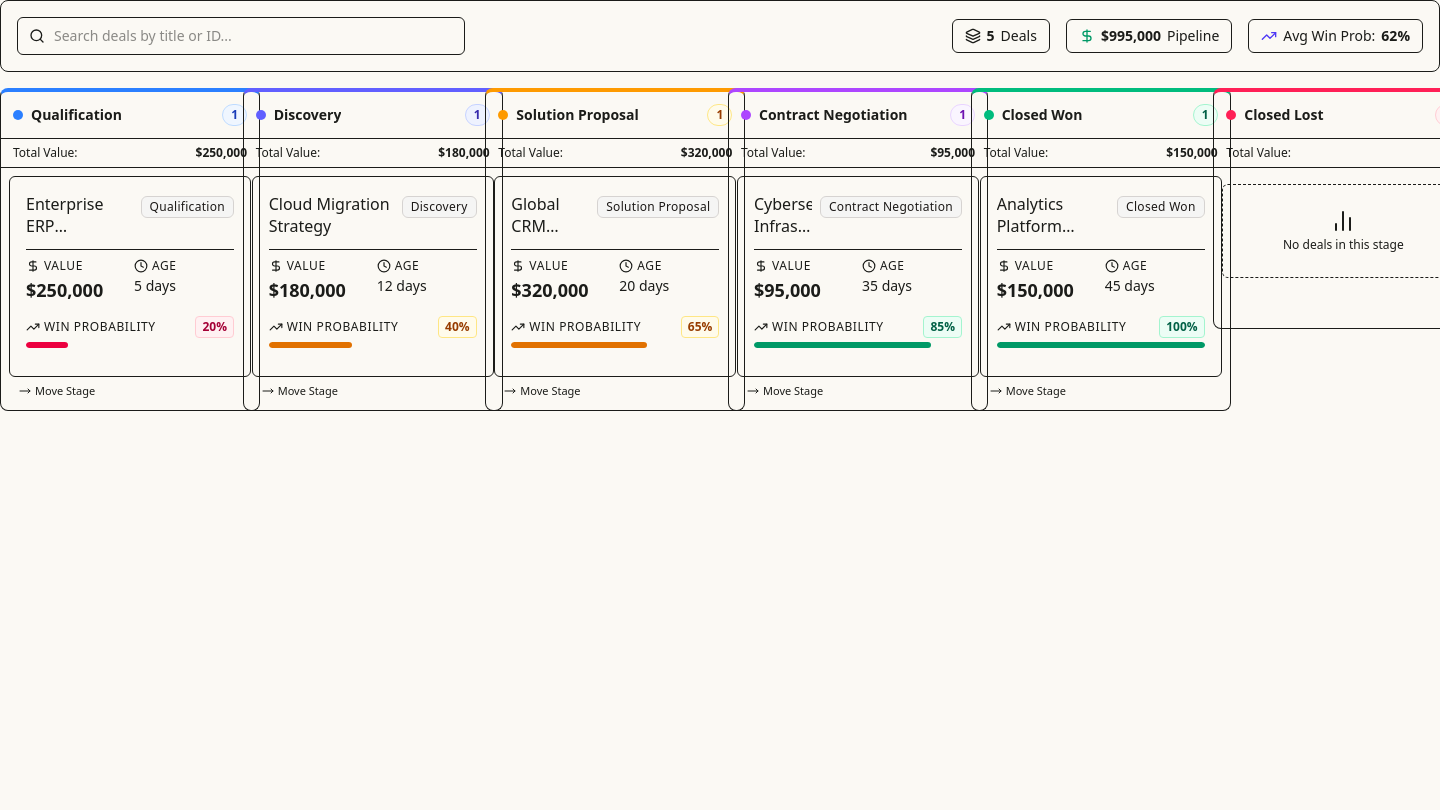
Test: Board Component [FR-001, FR-003, NFR-001] › Stage Transitions & Interaction [FR-003, NFR-001] › updates deal stage via Move Stage dropdown selector [FR-003]
The width and height of the screenshot is (1440, 810).
// Open Move Stage menu for deal-001 (currently Qualification)
Click the button with test id "move-stage-btn-deal-001" at x=57, y=391, box [13,381,101,402]
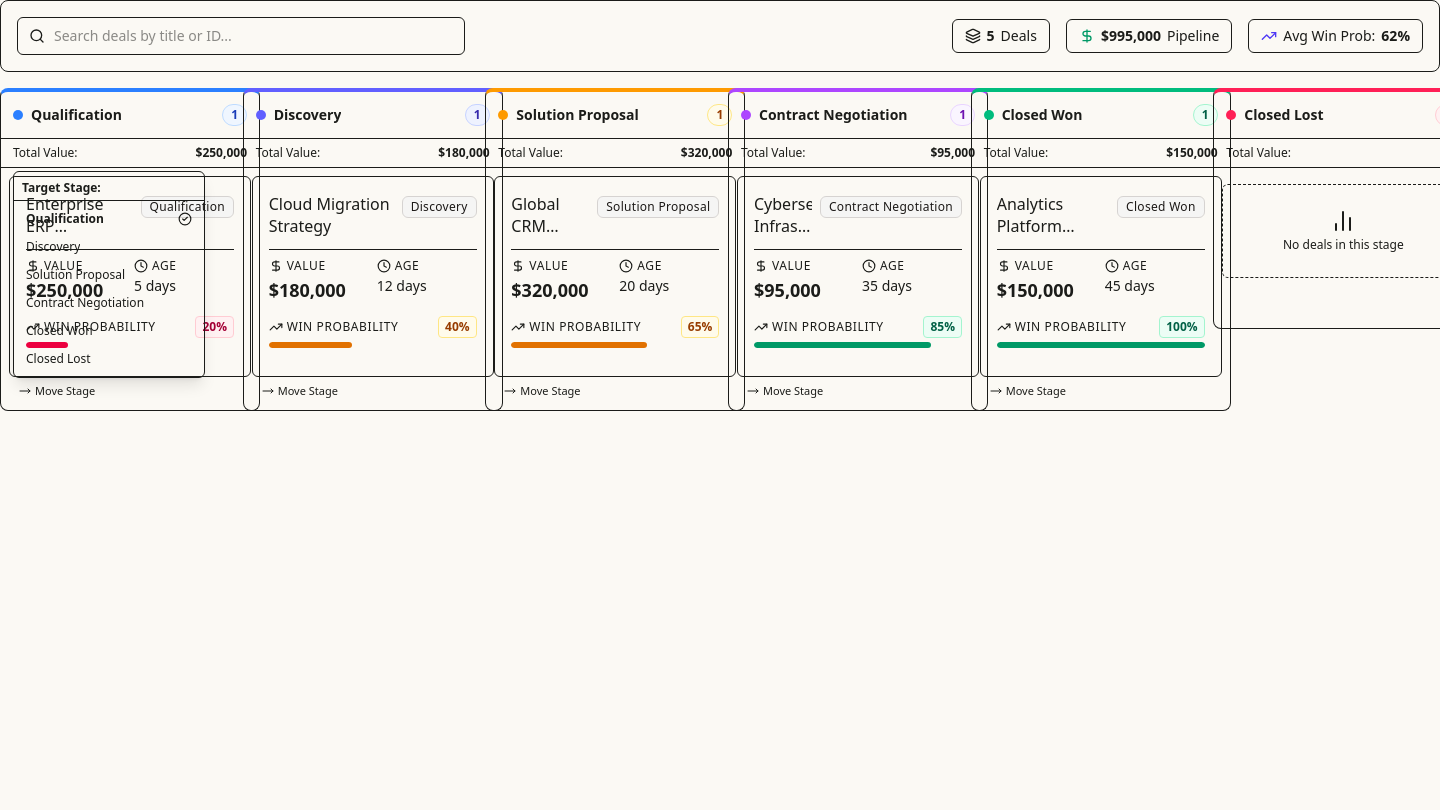
Now the element with test id "move-stage-menu-deal-001" is shown, box [13,170,205,378]
// Select 'Discovery' option
Click the button with test id "move-option-deal-001-Discovery" at x=109, y=246, box [14,232,204,260]
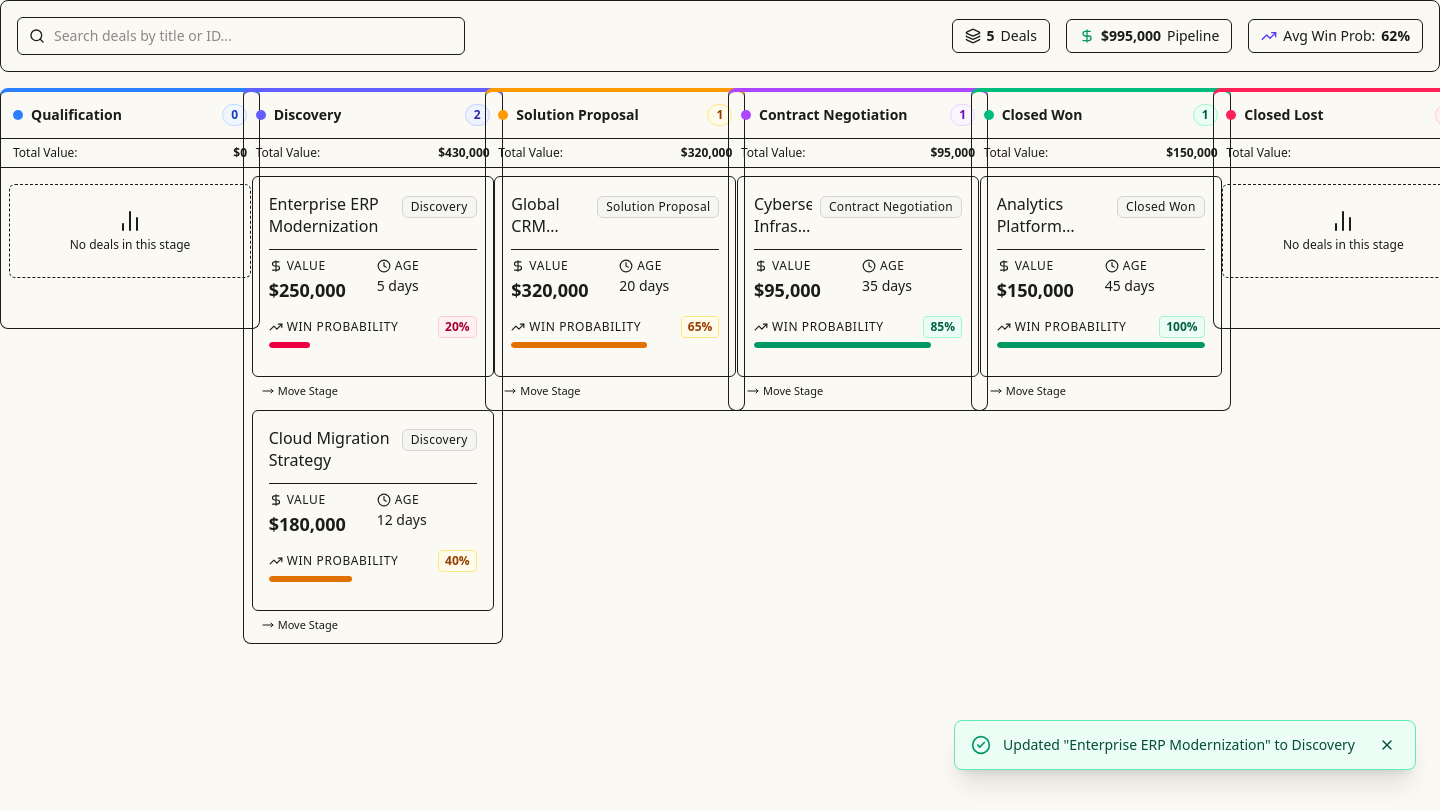
Now the text with test id "column-count-Discovery" reads "2", box [474,106,481,123]
